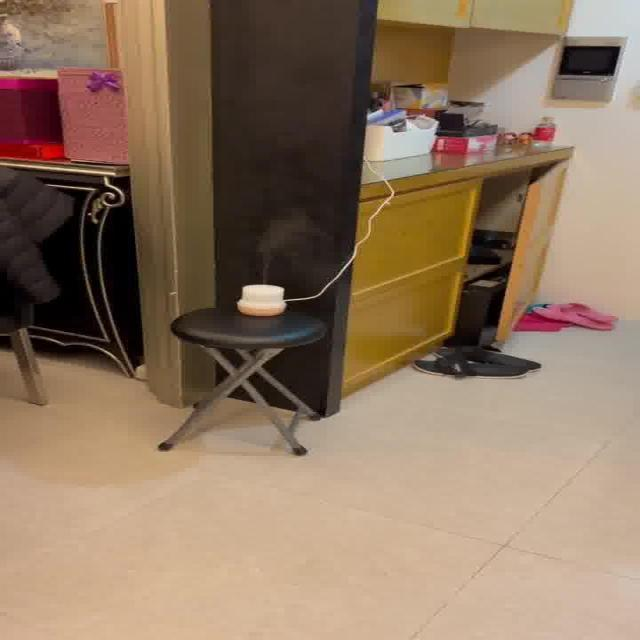fire: (252, 212, 317, 279)
